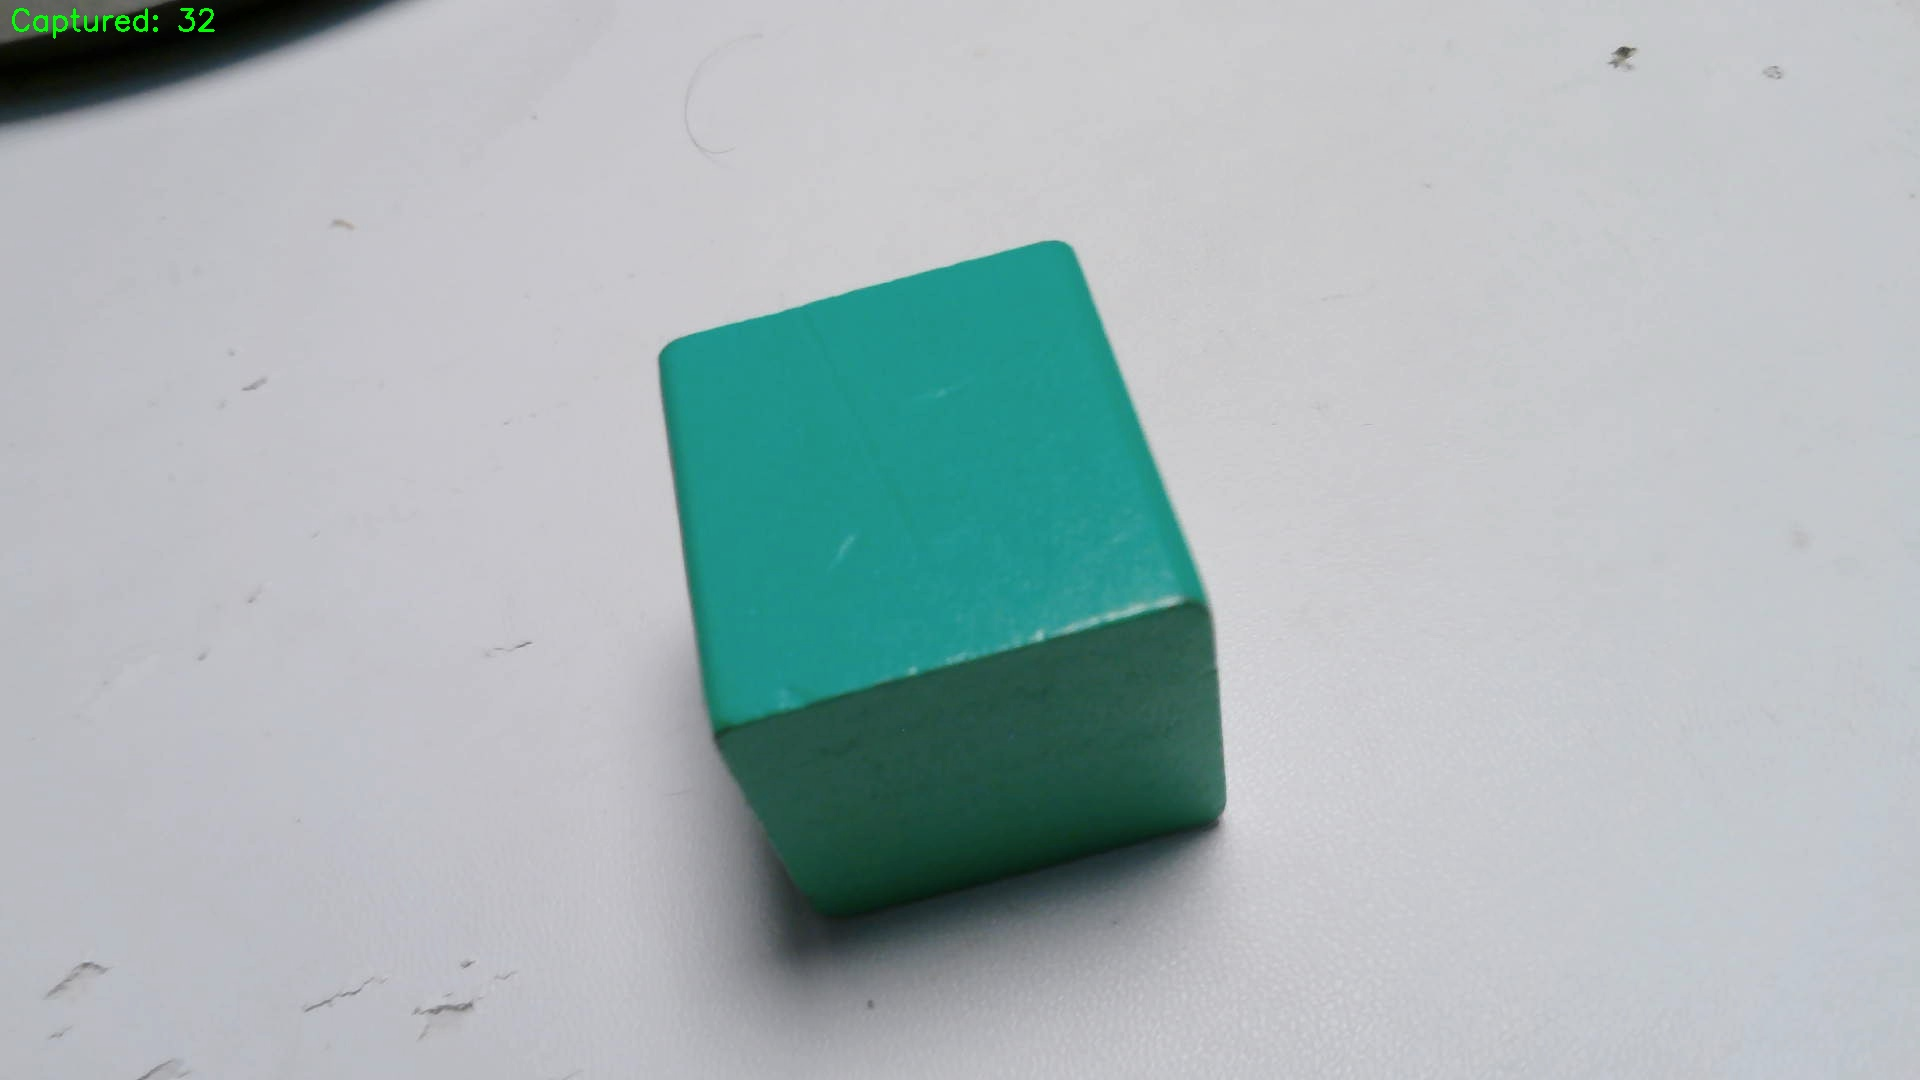green: (661, 240, 1230, 913)
